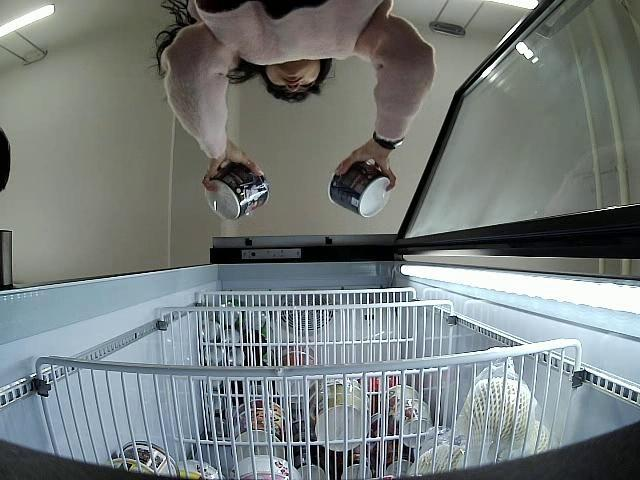07_buldak_L: (328, 158, 392, 219), (206, 162, 267, 221)
